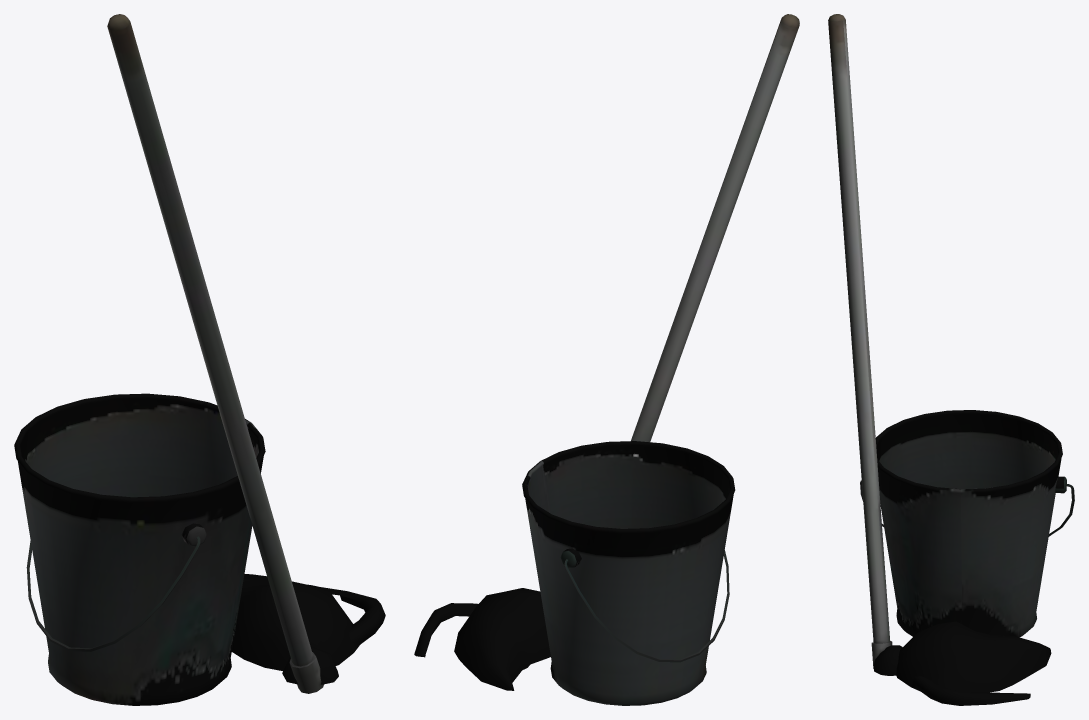
3 renders of one model, left to right at view 1: azimuth 30°, elevation 25°; view 2: azimuth 150°, elevation 25°; view 3: azimuth 270°, elevation 25°, orthographic. The views are drawn at different scales.
Parts seen in each view (by area): view 1: body0_model0_lod0_mesh0; view 2: body0_model0_lod0_mesh0; view 3: body0_model0_lod0_mesh0.
Boxes of the visible parts, x1,y1,x2,y2 form: body0_model0_lod0_mesh0: (14, 14, 385, 705); body0_model0_lod0_mesh0: (414, 14, 799, 705); body0_model0_lod0_mesh0: (828, 14, 1074, 705).
Bounding box in the file's own units: 39.68 × 80.78 × 31.5.
Materials: 1 (1 with a texture image).
